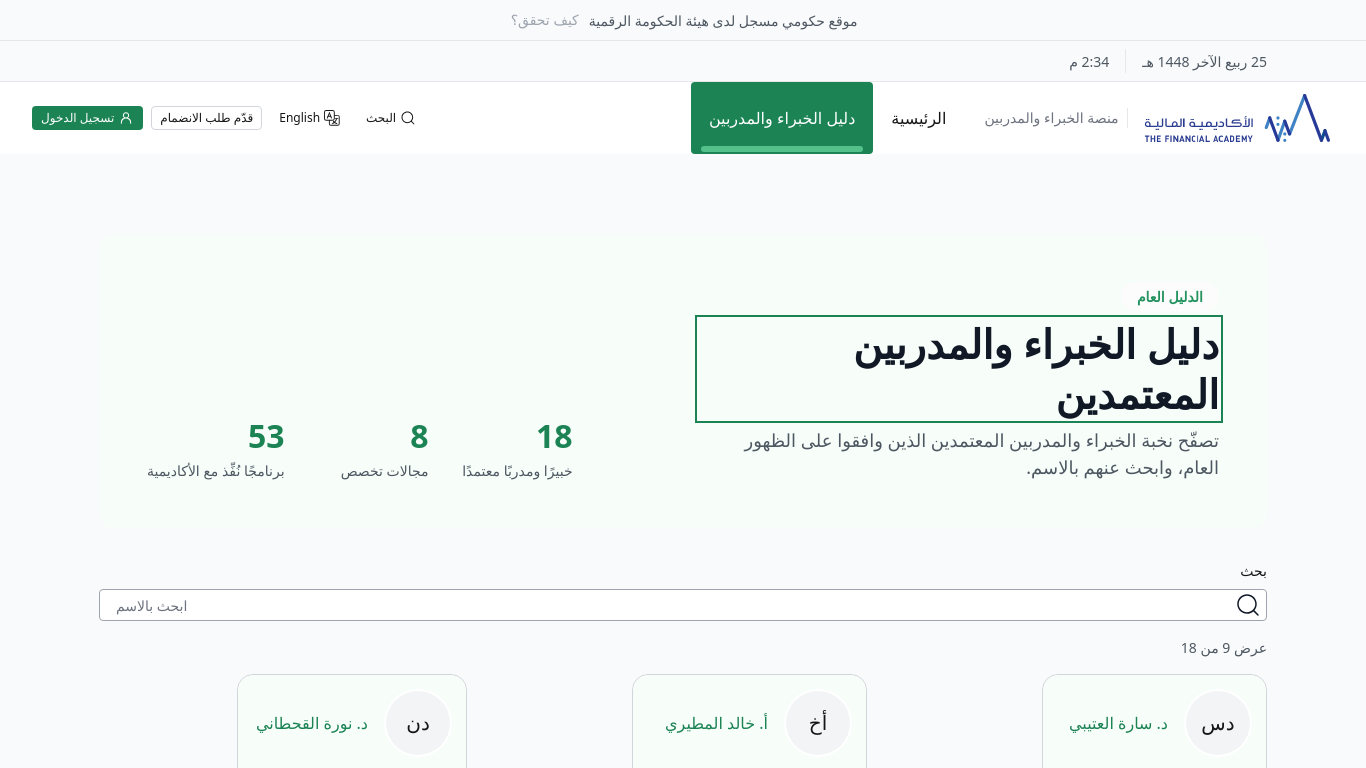
Test case: EH-PUB-02 — Trainer Directory › searches by name and narrows the grid
Expected: the heading "دليل الخبراء والمدربين المعتمدين" is shown, 853,316 -> 1219,421
Type "سارة" into the search field labelled "بحث" at (673, 605), box 116,590 -> 1230,620
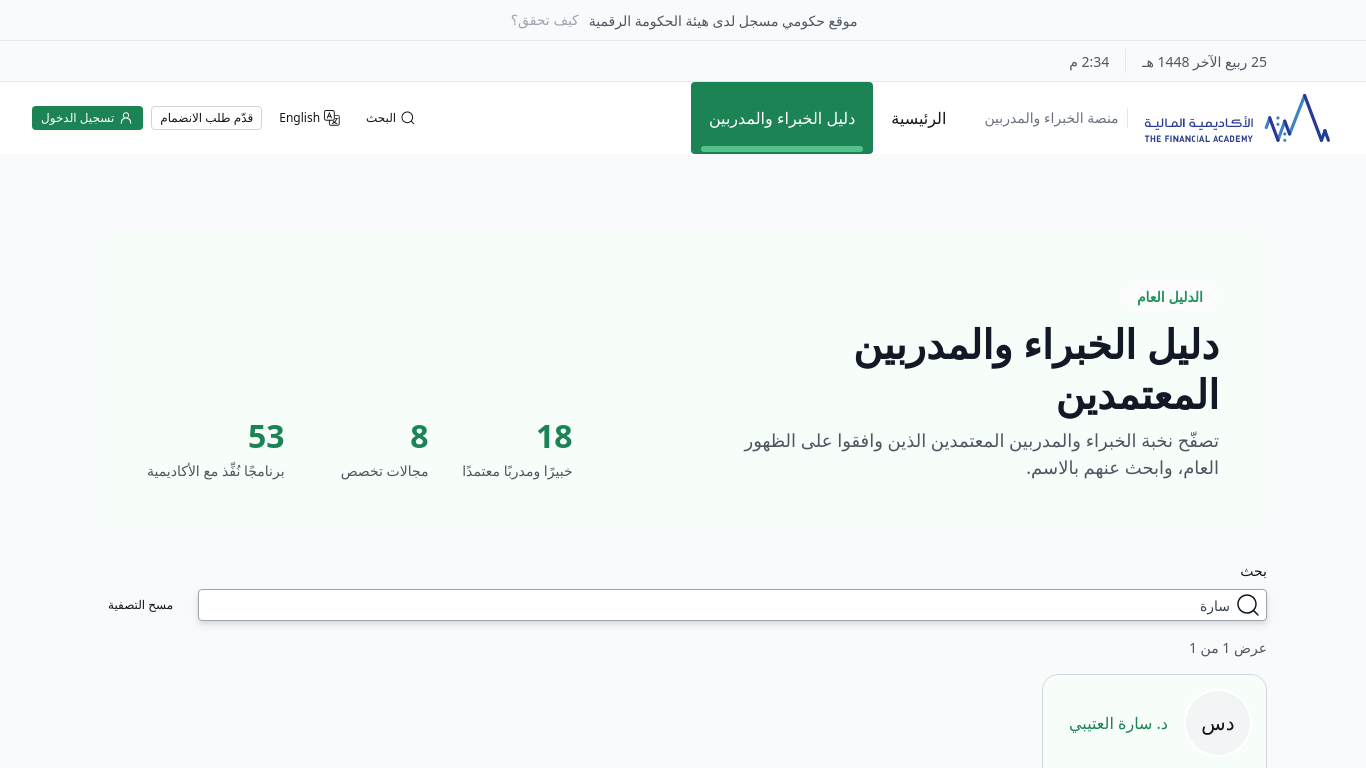
Expected: the text "د. سارة العتيبي" is shown, 1069,711 -> 1168,735
Expected: the link "أ. خالد المطيري" is gone
